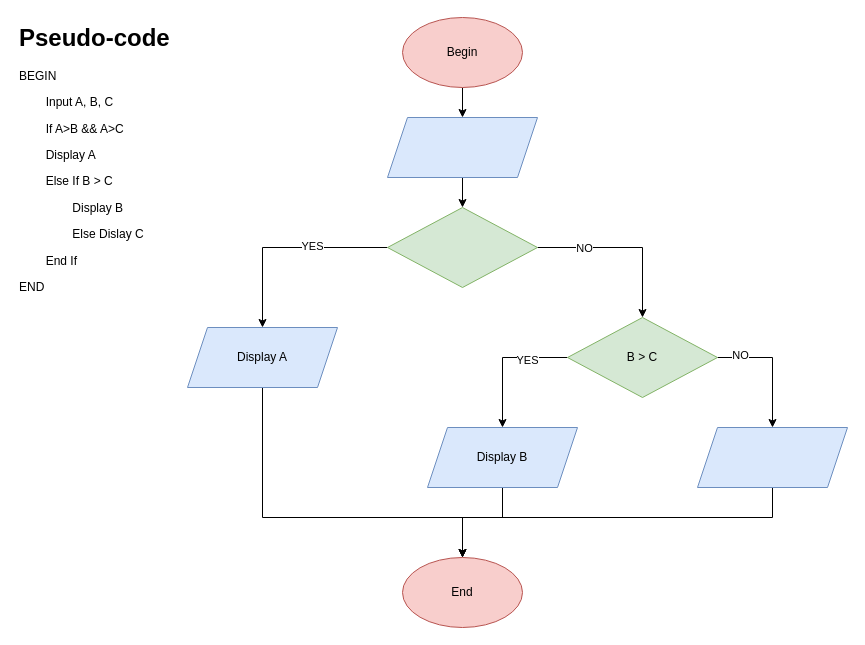
The diagram is 865 pixels wide and 645 high, and some of its shapes have lost their labels. The shapes that lost their labels are listed below. From the top down, each one's box as (x1, y1, x2, y2) in pixels, then its label:
(386, 116, 538, 178): Input A, B, C
(386, 206, 538, 288): A > B && A > C
(696, 426, 848, 488): Display C
